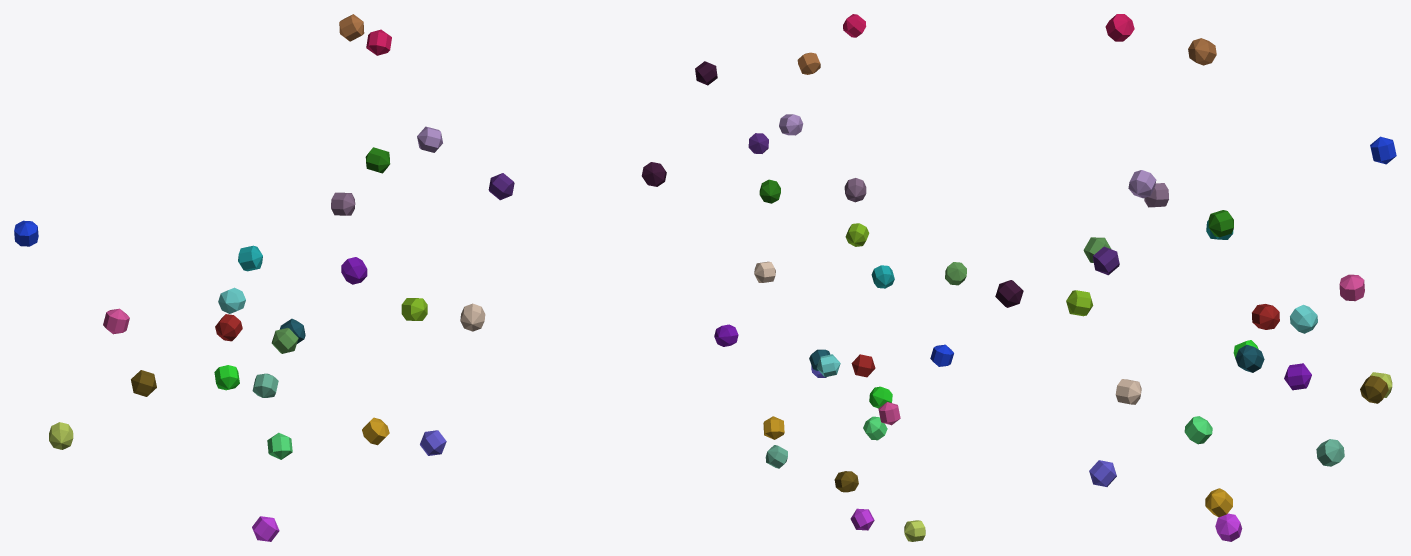
Rendered from fg-00020-bone.obj.
3 views of the same model, side by side, from view 1: azimuth 30°, elevation 25°; view 2: azimuth 150°, elevation 25°; view 3: azimuth 270°, elevation 25° (orthographic). The views are drawn at different scales.
Bounding box in the file's own units: 0.1933 × 0.2089 × 0.1368.
